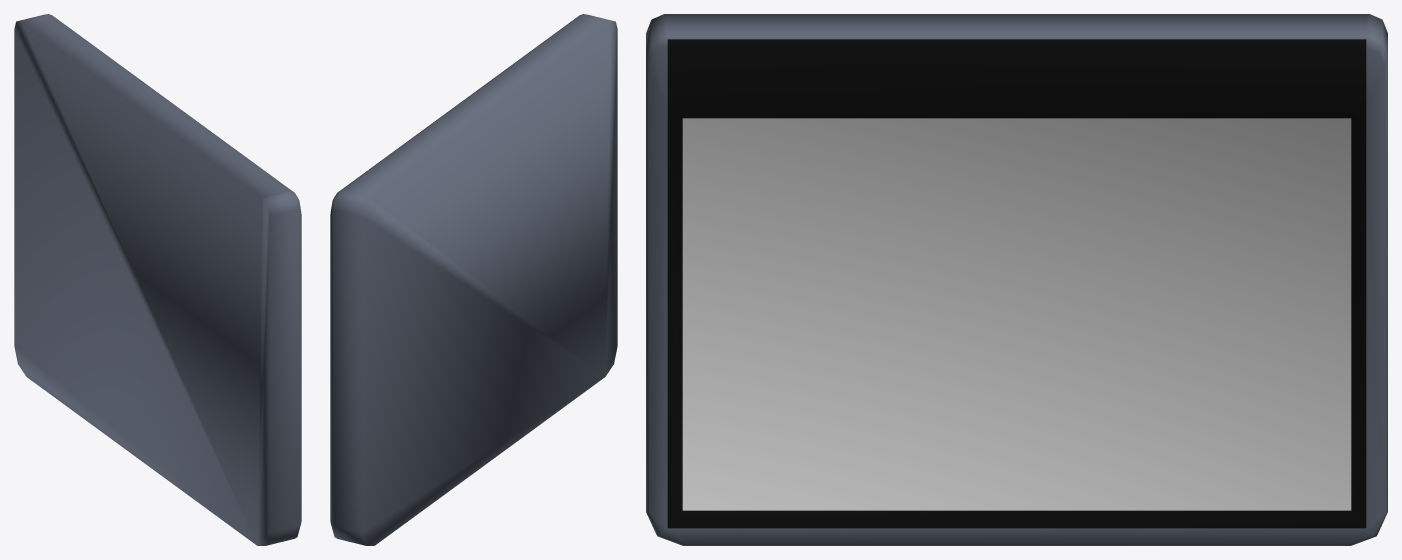
File: ComputerScreen.fbx
3 renders of one model, left to right at view 1: azimuth 30°, elevation 25°; view 2: azimuth 150°, elevation 25°; view 3: azimuth 270°, elevation 25°, orthographic. The views are drawn at different scales.
Visible parts, largest first — view 1: Computer Screen; view 2: Computer Screen; view 3: Computer Screen.
Part boxes in pixels (box(x1,y1,x2,y2)): Computer Screen: box(14, 14, 301, 545); Computer Screen: box(330, 14, 617, 545); Computer Screen: box(646, 14, 1387, 545).
Size of the model in its own units: 0.0417 by 0.4248 by 0.5594.
